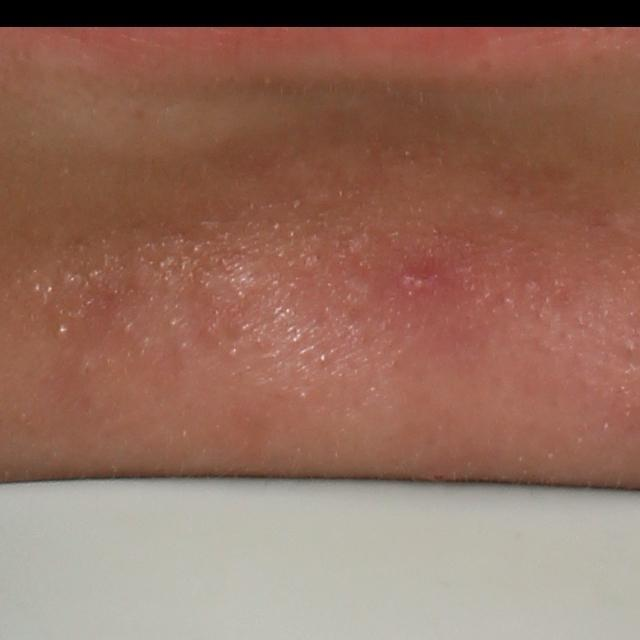comedo: (51, 322, 71, 340)
papule: (402, 263, 432, 296)
